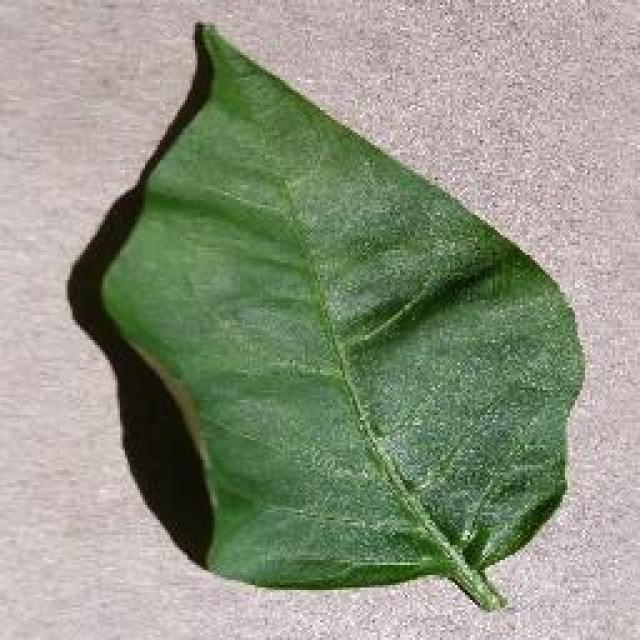Chilli_Healthy: (95, 18, 585, 610)
